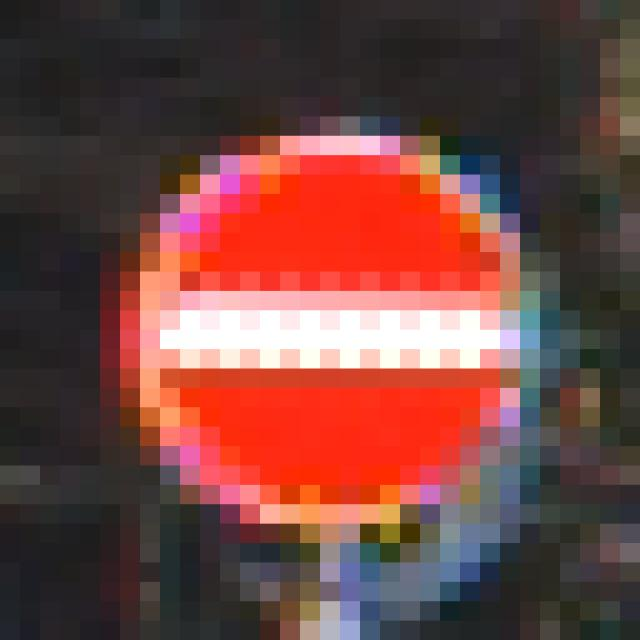No Entry: (101, 117, 541, 544)
